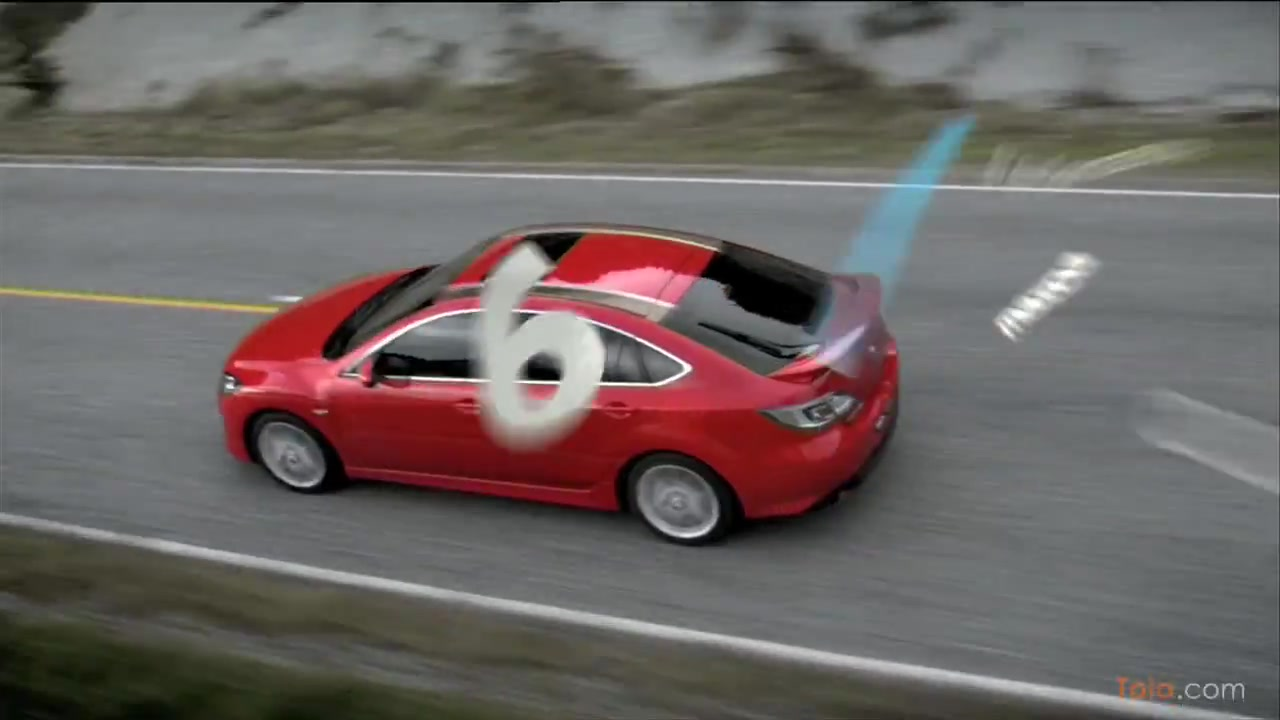car: (209, 217, 907, 550)
